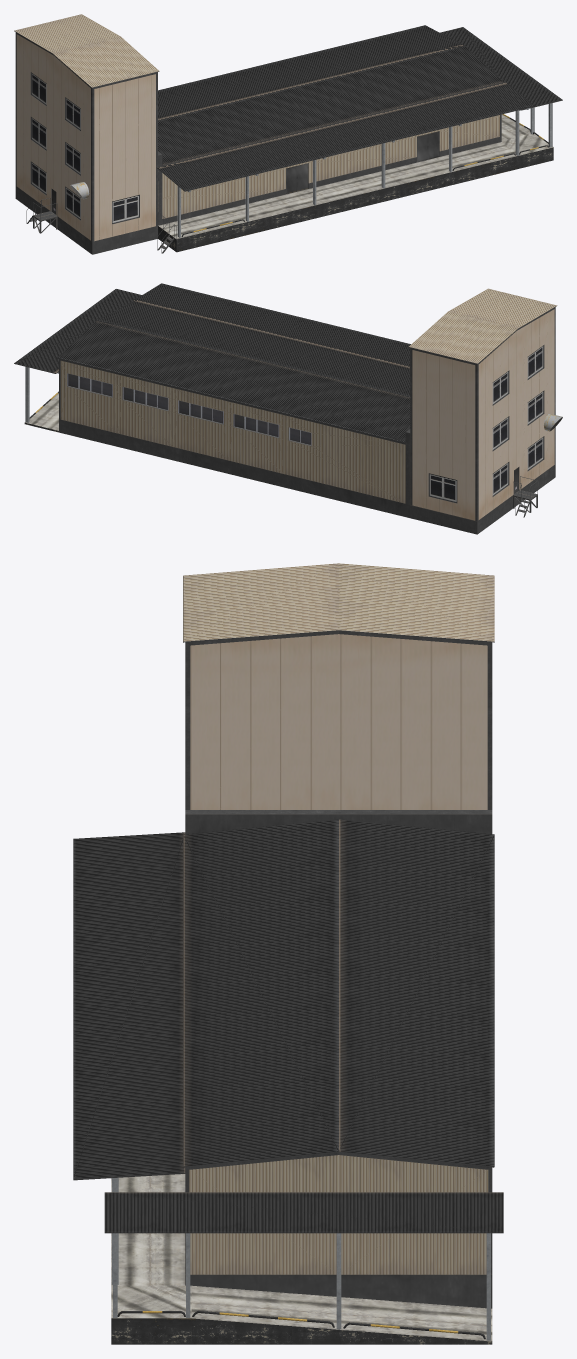
Rendered from plant-building10.glb.
The picture shows the model from 3 angles, top to bottom: view 1: azimuth 30°, elevation 25°; view 2: azimuth 150°, elevation 25°; view 3: azimuth 270°, elevation 25°; orthographic projection. The views are drawn at different scales.
Parts seen in each view (by area): view 1: Object8932586; view 2: Object8932586; view 3: Object8932586.
Part boxes in pixels (<box>): Object8932586: <box>14,14,562,254</box>; Object8932586: <box>14,283,562,534</box>; Object8932586: <box>73,563,503,1344</box>.
Bounding box in the file's own units: 48.71 × 17.28 × 19.4.
1 material, 1 textured.
